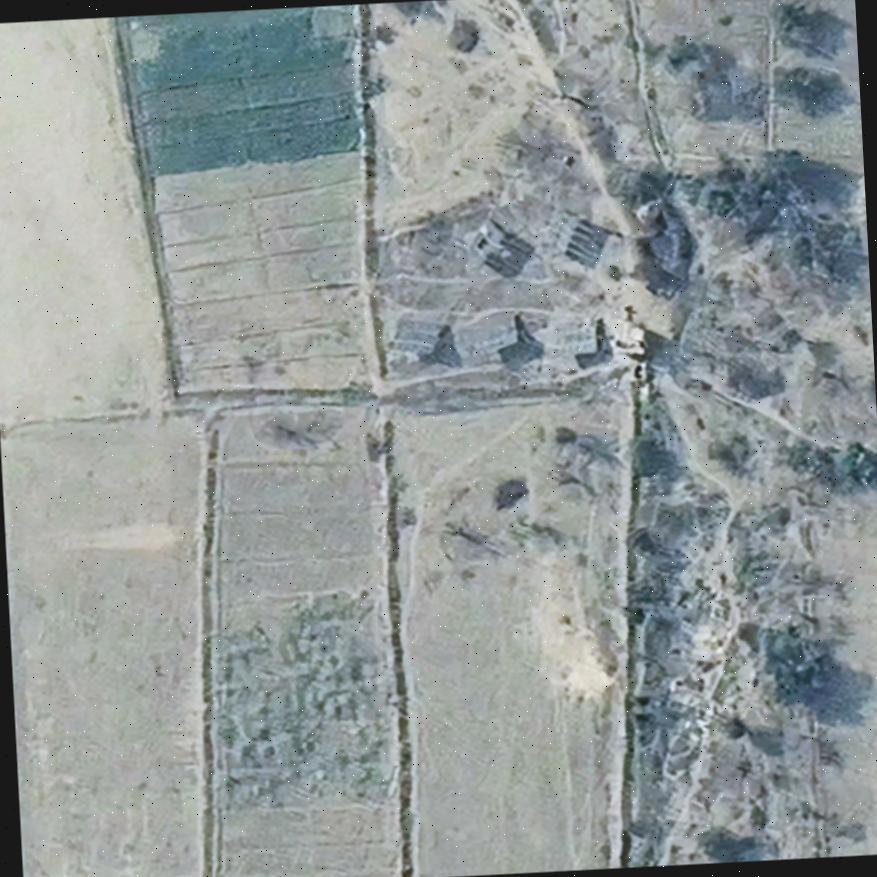Solarpanel: (542, 209, 583, 260), (467, 220, 514, 263)
